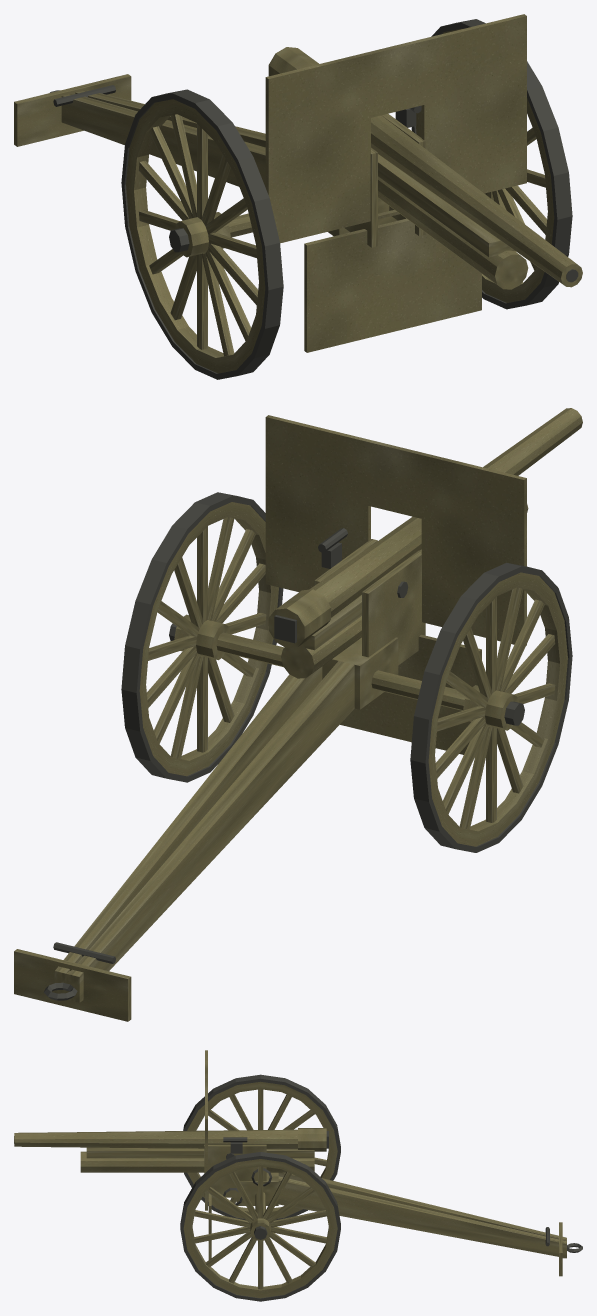
File: artillery.glb
3 renders of one model, top to bottom at view 1: azimuth 30°, elevation 25°; view 2: azimuth 150°, elevation 25°; view 3: azimuth 270°, elevation 25°, orthographic. The views are drawn at different scales.
Visible parts, largest first — view 1: bouclier, tablier, rayons_right, jante_right, bandage_right, tube, bandage_left, longeron_right, recuperateur, beche, berceau, jante_left (+5 smaller); view 2: bouclier, longeron_right, rayons_left, rayons_right, jante_right, longeron_left, bandage_right, jante_left, bandage_left, tube, flasques, tablier (+8 smaller); view 3: longeron_left, rayons_left, tube, jante_left, bandage_left, jante_right, recuperateur, bandage_right, berceau, longeron_right, flasques, rayons_right (+3 smaller).
Part boxes in pixels (x1,y1,x2,y2): bouclier: (265, 14, 526, 243); tablier: (304, 218, 481, 352); rayons_right: (138, 114, 258, 356); jante_right: (126, 99, 265, 373); bandage_right: (121, 89, 283, 379); tube: (371, 115, 582, 287); bandage_left: (411, 19, 572, 309); longeron_right: (61, 93, 265, 186); recuperateur: (378, 176, 528, 289); beche: (14, 74, 131, 146); berceau: (378, 154, 514, 257); jante_left: (416, 28, 554, 302); bouclier: (265, 415, 526, 645); longeron_right: (68, 661, 354, 1002); rayons_left: (147, 517, 266, 758); rayons_right: (435, 587, 555, 829); jante_right: (428, 572, 567, 846); longeron_left: (54, 666, 322, 993); bandage_right: (410, 562, 572, 852); jante_left: (139, 502, 278, 776); bandage_left: (121, 492, 283, 782); tube: (309, 408, 582, 617); flasques: (314, 539, 425, 665); tablier: (340, 634, 481, 754); longeron_left: (278, 1176, 566, 1258); rayons_left: (194, 1166, 326, 1289); tube: (14, 1129, 297, 1148); jante_left: (183, 1159, 337, 1298); bandage_left: (180, 1152, 340, 1301); jante_right: (187, 1081, 337, 1218); recuperateur: (80, 1151, 314, 1172); bandage_right: (183, 1074, 340, 1220); berceau: (86, 1147, 314, 1158); longeron_right: (278, 1172, 566, 1240); flasques: (204, 1144, 266, 1197); rayons_right: (208, 1089, 326, 1203).
Size of the model in its own units: 0.9168 by 0.8206 by 2.4.
2 materials, 1 textured.
